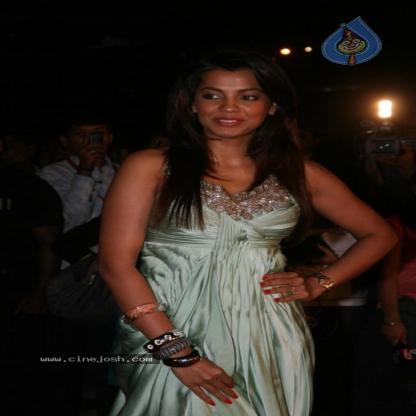face: (194, 61, 271, 136), (72, 124, 110, 156)
